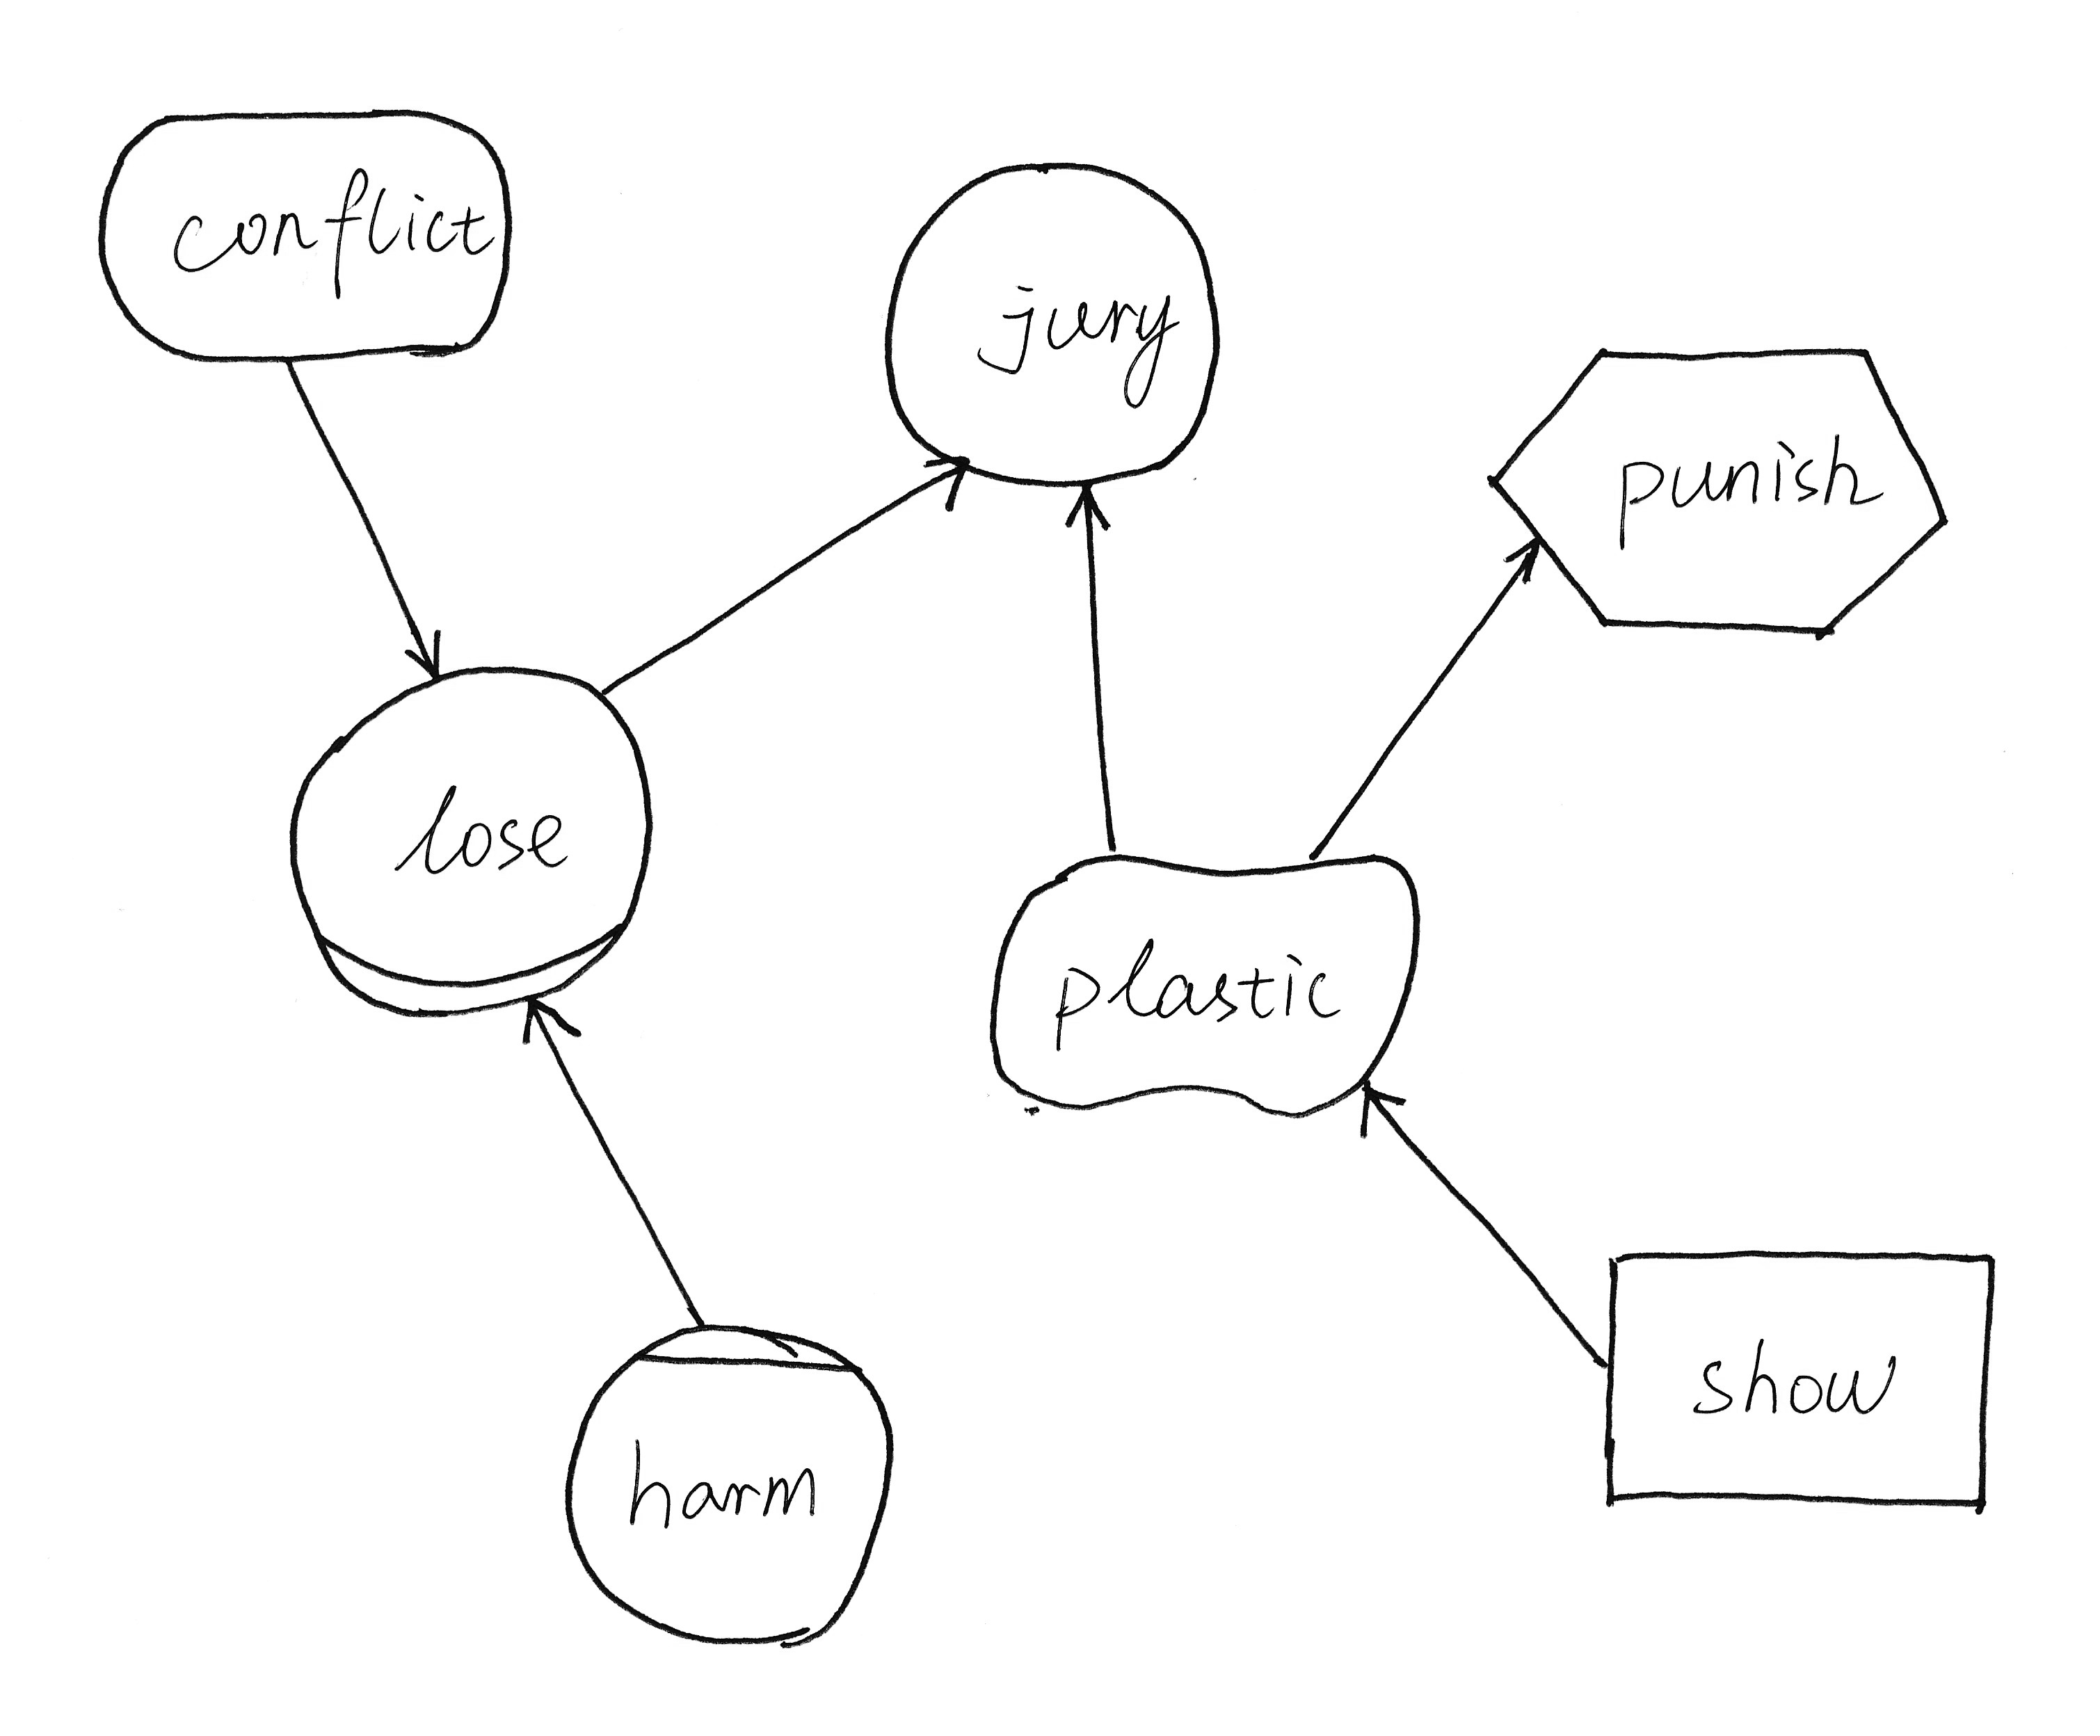actor: (867, 141, 1240, 508)
agent: (546, 1302, 912, 1663)
arrow: (366, 604, 478, 701), (499, 975, 598, 1070), (902, 441, 999, 529), (1336, 1061, 1425, 1153), (1045, 461, 1128, 555), (1491, 516, 1565, 605)
goal: (78, 91, 528, 377)
quality: (968, 834, 1444, 1134)
resource: (1580, 1225, 2023, 1532)
role: (267, 647, 670, 1036)
task: (1469, 326, 1967, 656)
